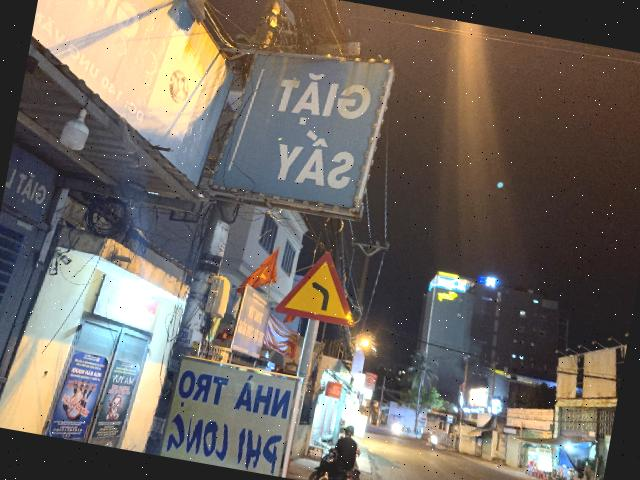cho-ngoat-nguy-hiem-ben-phai: (274, 243, 366, 328)
